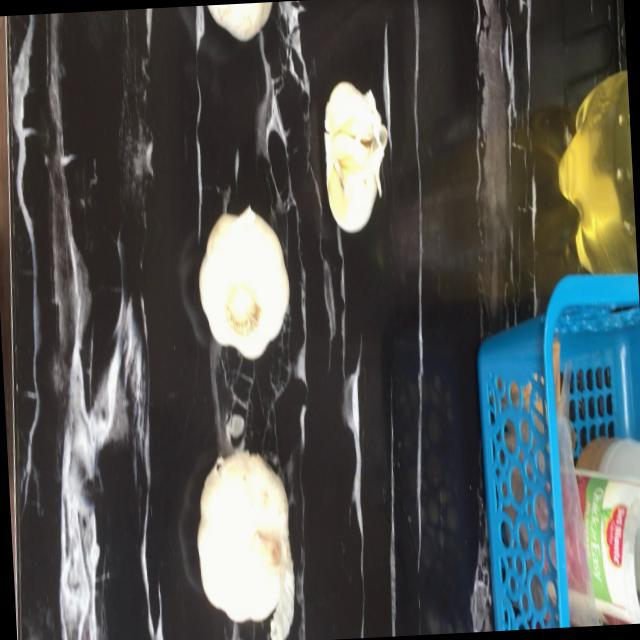bawang: (188, 439, 303, 640), (193, 204, 294, 366), (318, 78, 394, 234)
